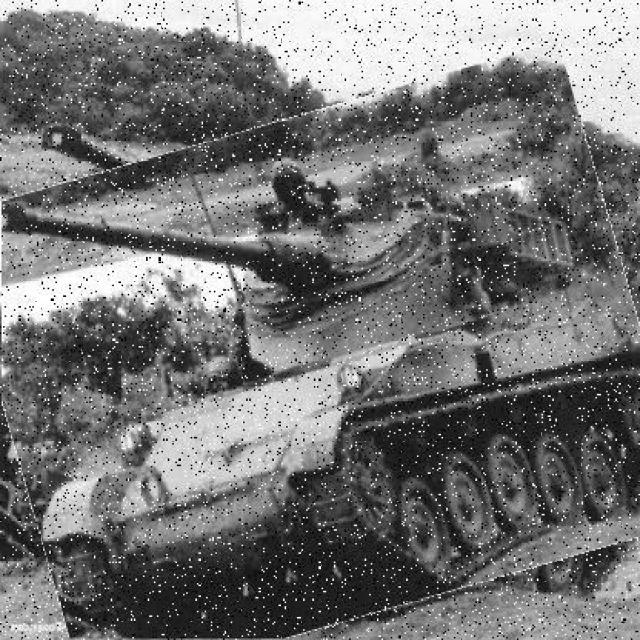Tank: (2, 80, 640, 639)
